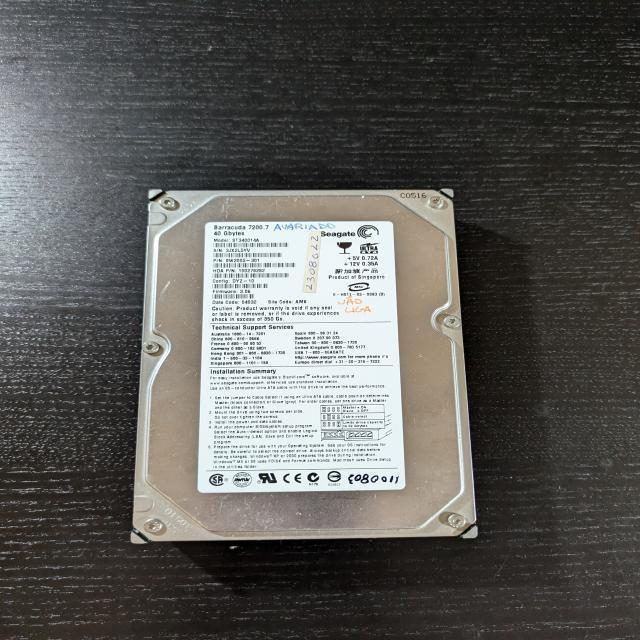DISK: (130, 188, 480, 544)
